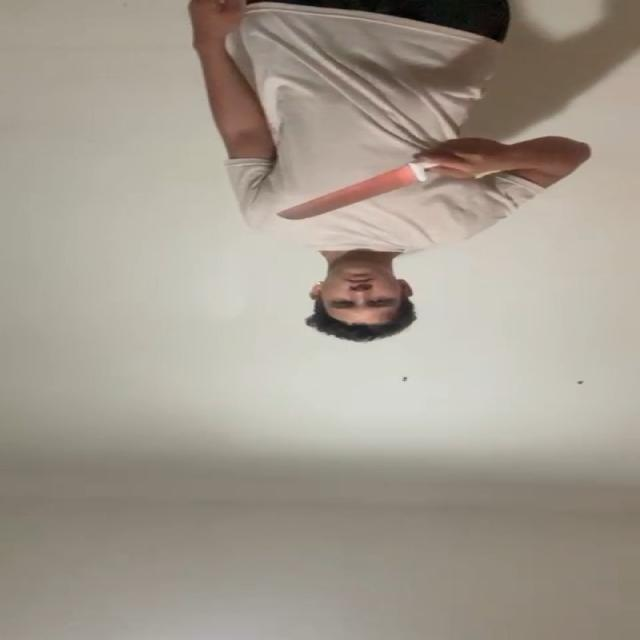knife: (276, 170, 422, 222)
